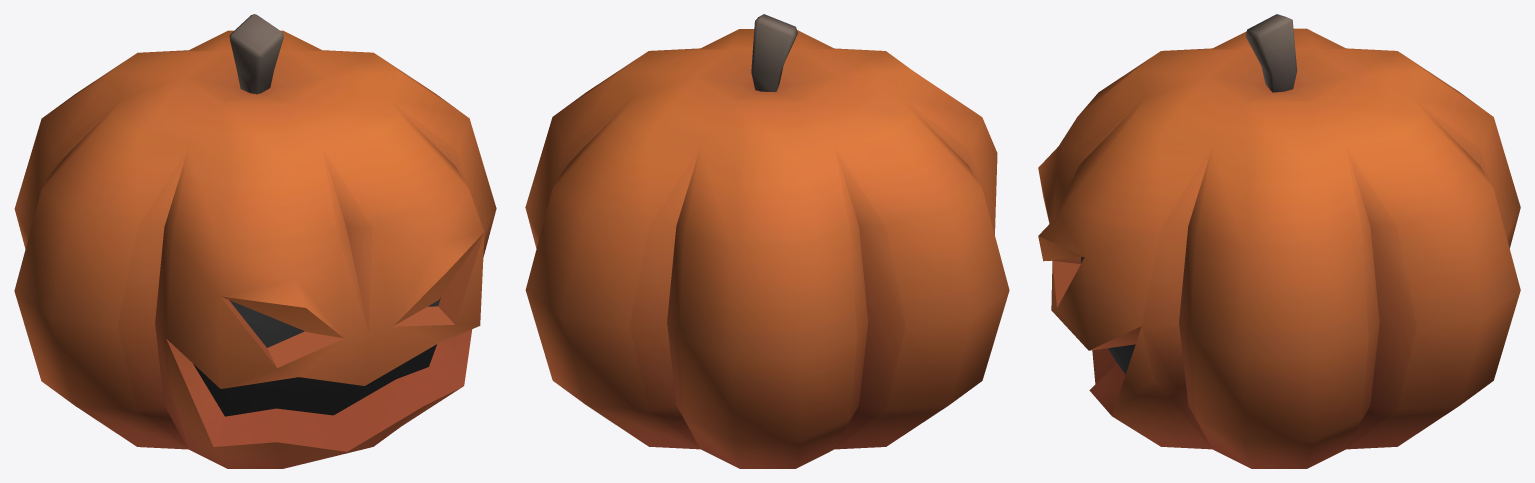
The model's file is pumpkin_orange_jackolantern.glb.
3 views of the same model, side by side, from view 1: azimuth 30°, elevation 25°; view 2: azimuth 150°, elevation 25°; view 3: azimuth 270°, elevation 25° (orthographic).
Parts seen in each view (by area): view 1: pumpkin_orange_jackolantern; view 2: pumpkin_orange_jackolantern; view 3: pumpkin_orange_jackolantern.
Boxes of the visible parts, bbox=[...] form: pumpkin_orange_jackolantern: bbox=[14, 14, 496, 468]; pumpkin_orange_jackolantern: bbox=[525, 14, 1009, 468]; pumpkin_orange_jackolantern: bbox=[1038, 14, 1520, 468].
Bounding box in the file's own units: 1.5 × 1.3 × 1.4.
1 material, 1 textured.
